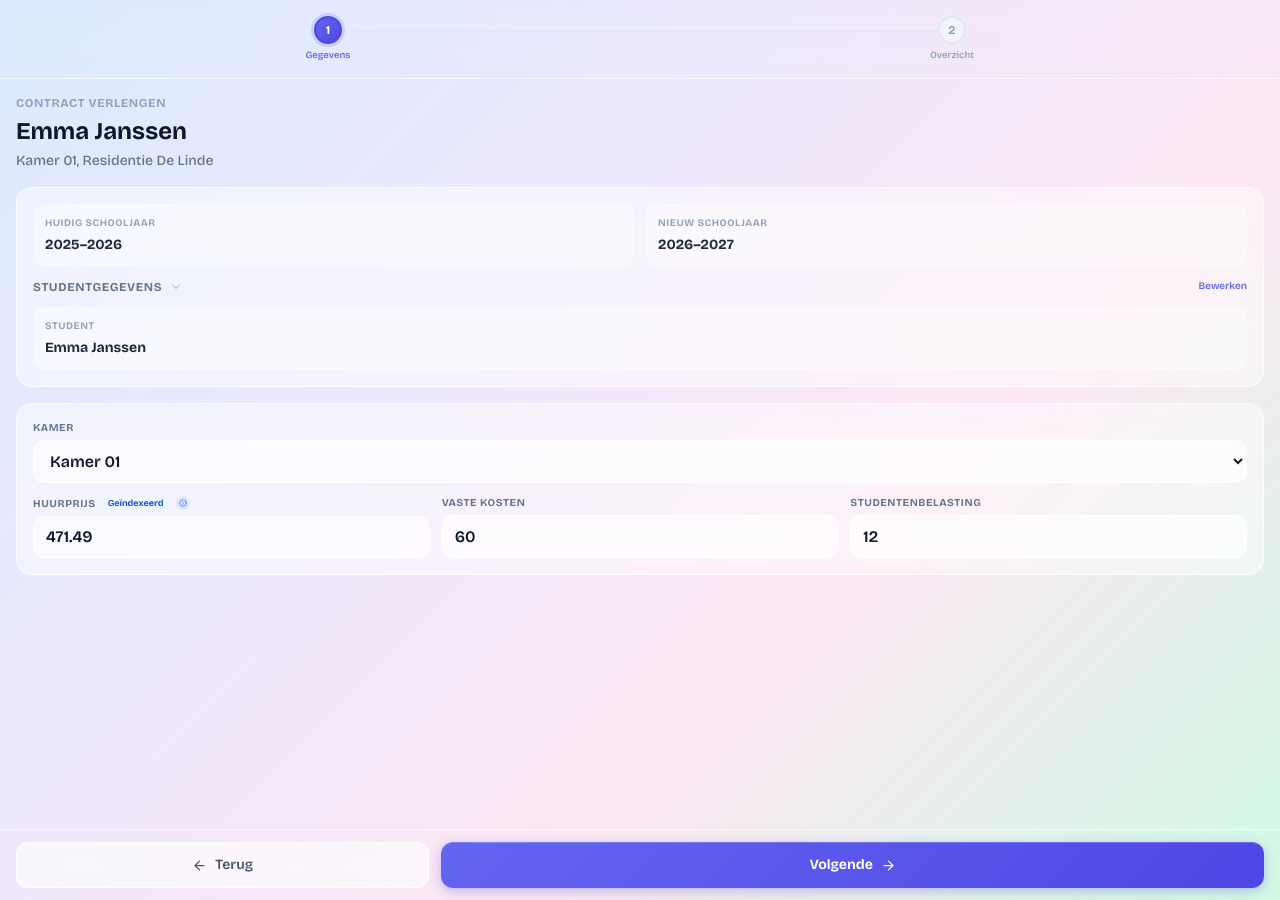
Test: ContractRenewPage › neemt gewijzigde huurprijs mee naar overzicht
Replace the text in the number field named "Huurprijs" with "499": (231, 537) [33,516,430,558]
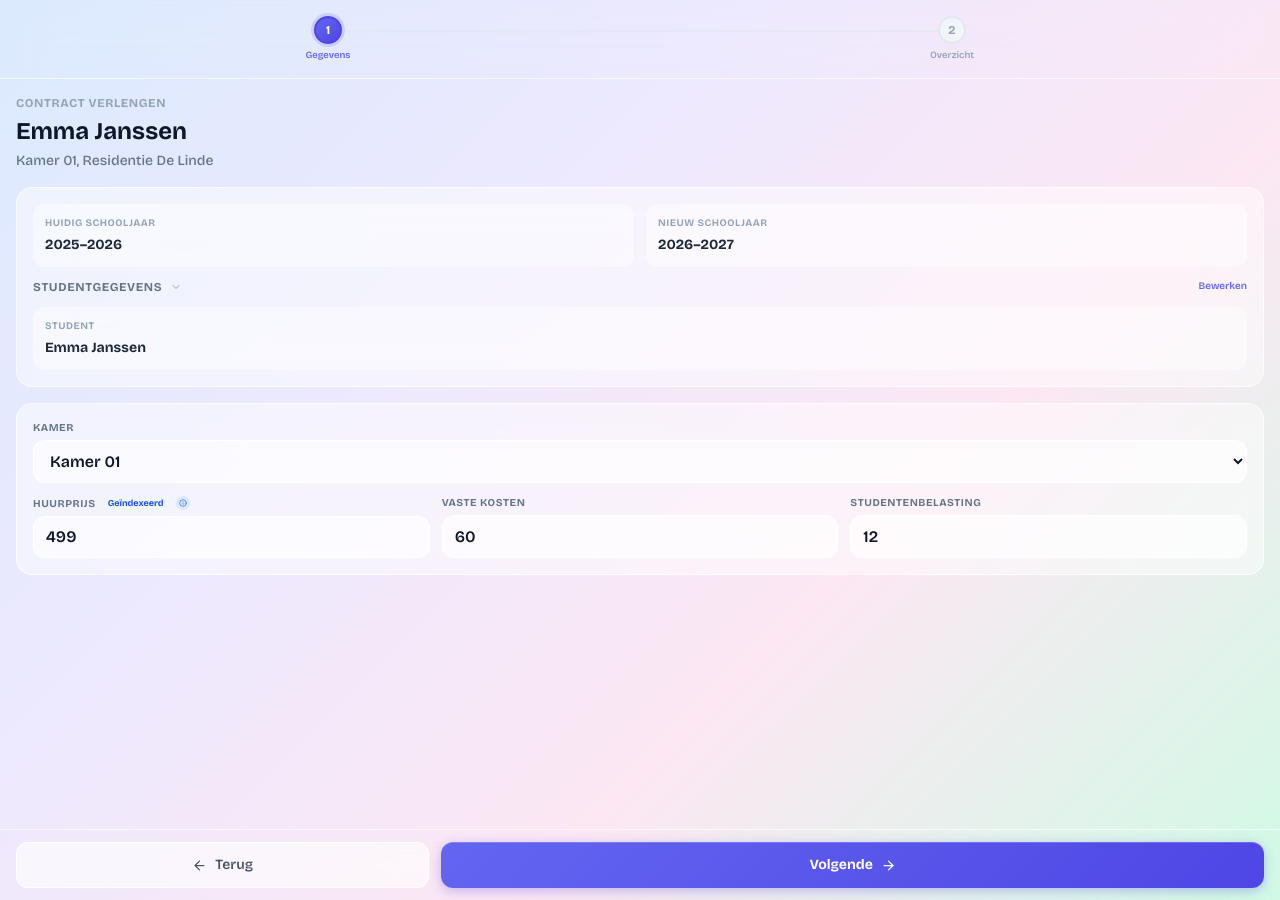
Click the button "Volgende": (853, 865) [441,842,1264,888]
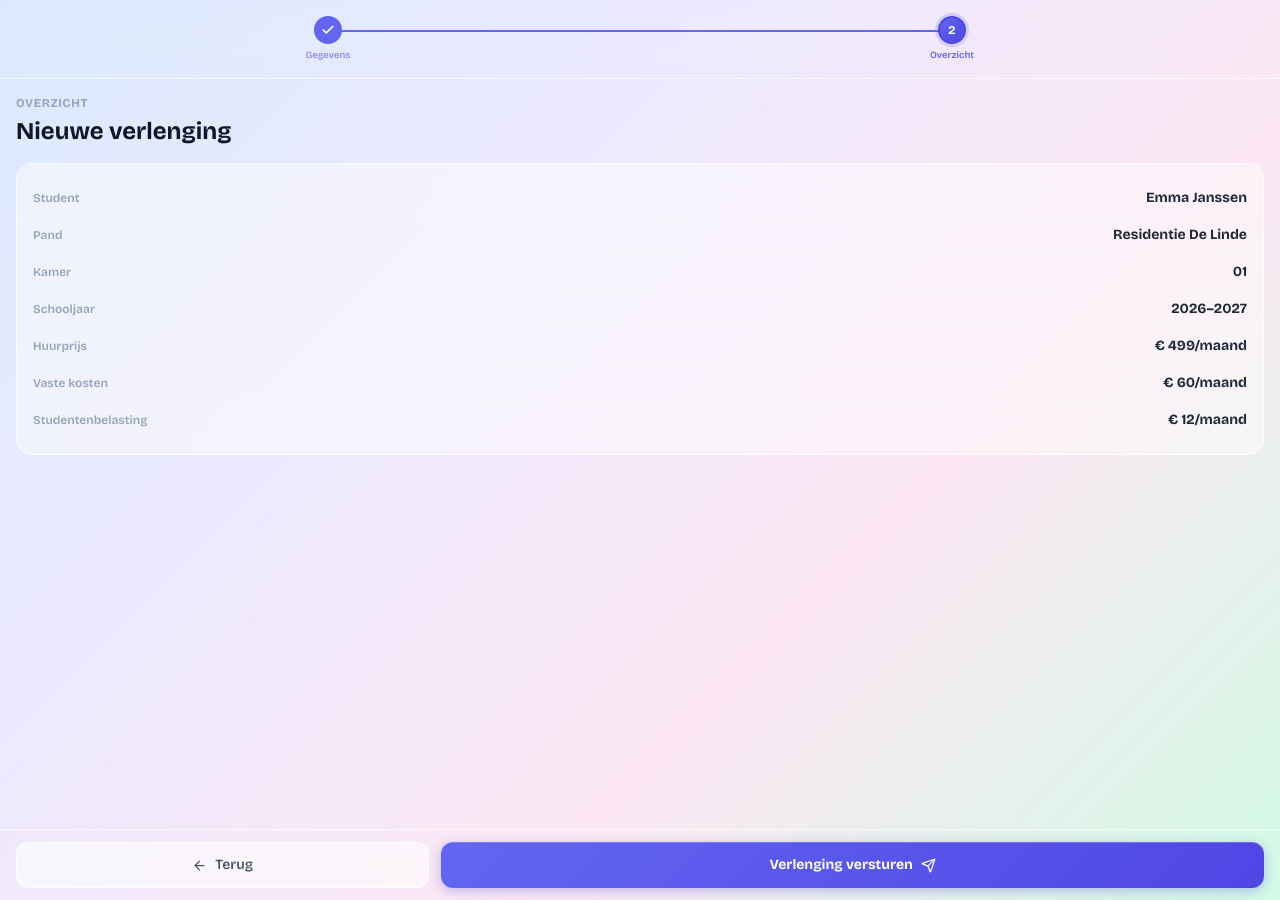
Check: the text "€ 499/maand" is shown, box [1154,336,1247,356]
